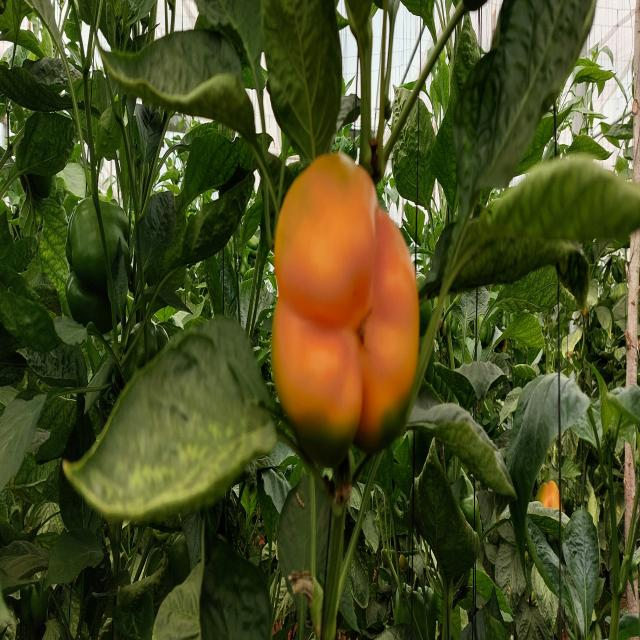Yellow-Ready-to-Harvest: (272, 151, 420, 432)
